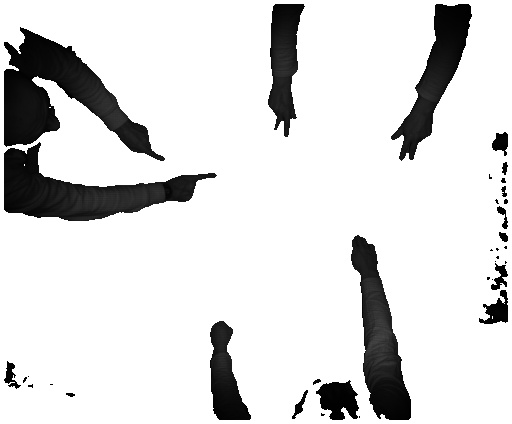fist: (208, 320, 239, 348)
hand: (384, 115, 435, 167), (264, 85, 303, 141), (124, 123, 167, 167), (171, 171, 221, 207), (344, 232, 383, 275)
